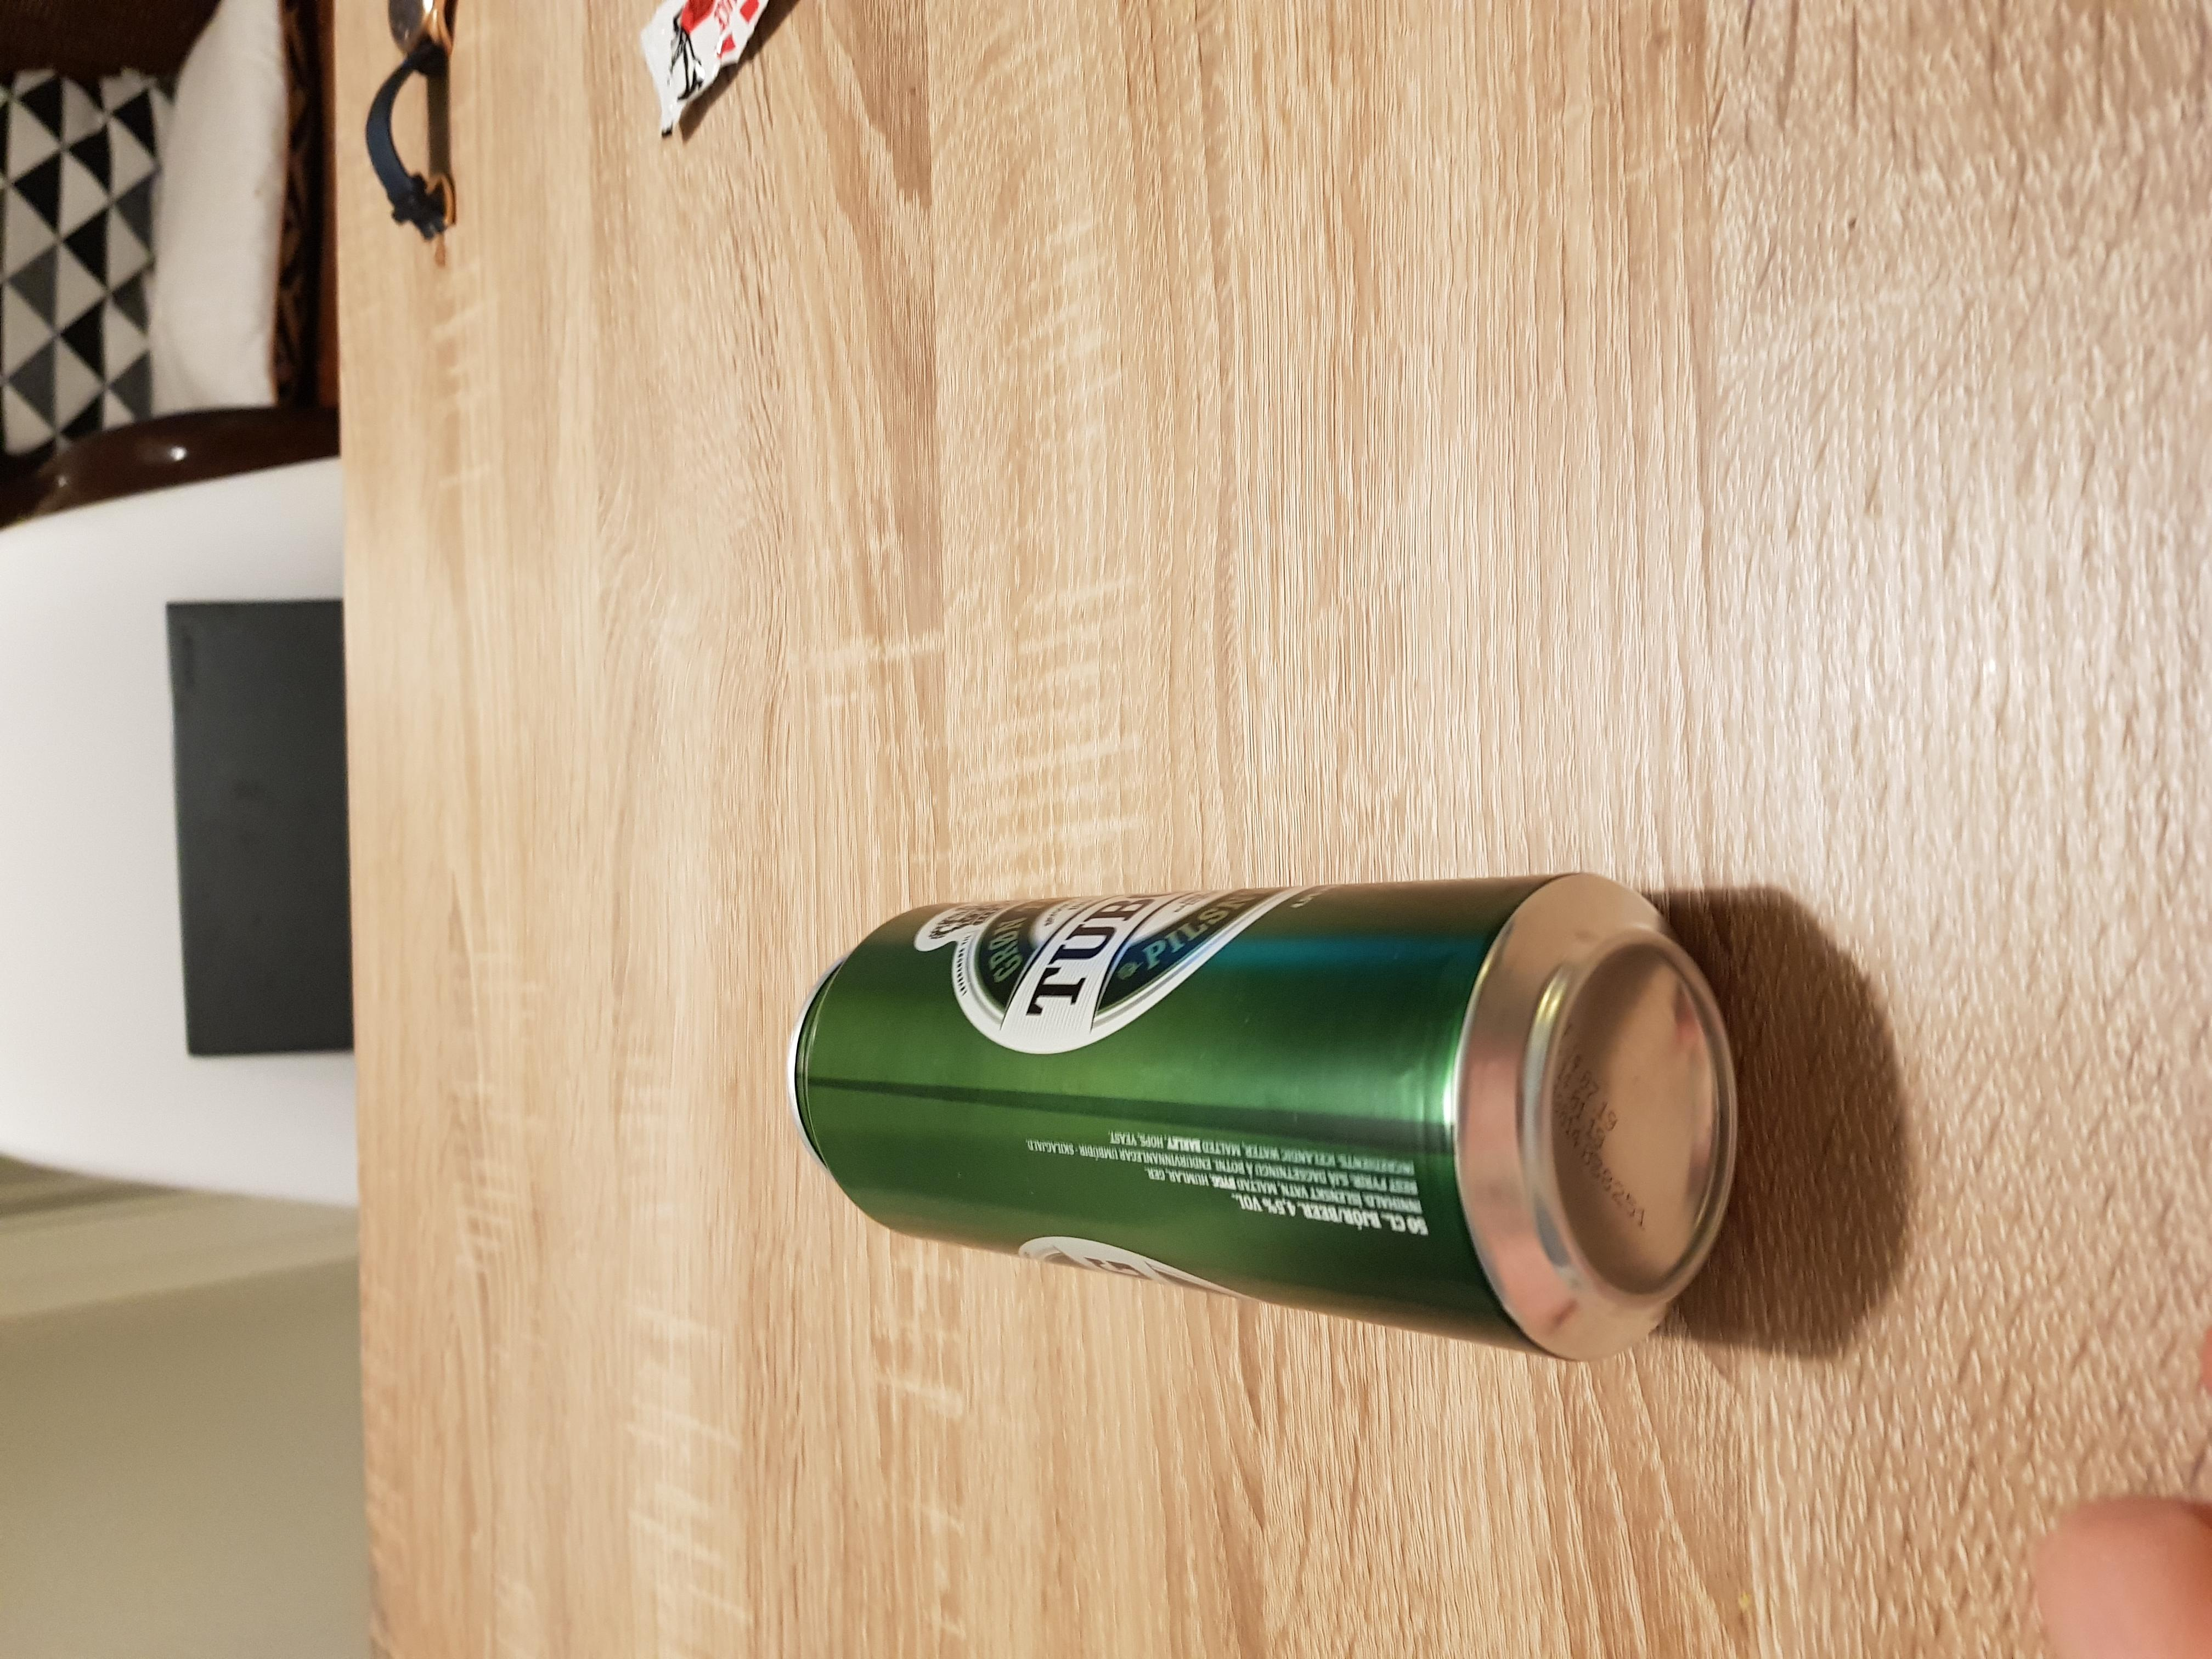Can: (784, 875, 1738, 1370)
